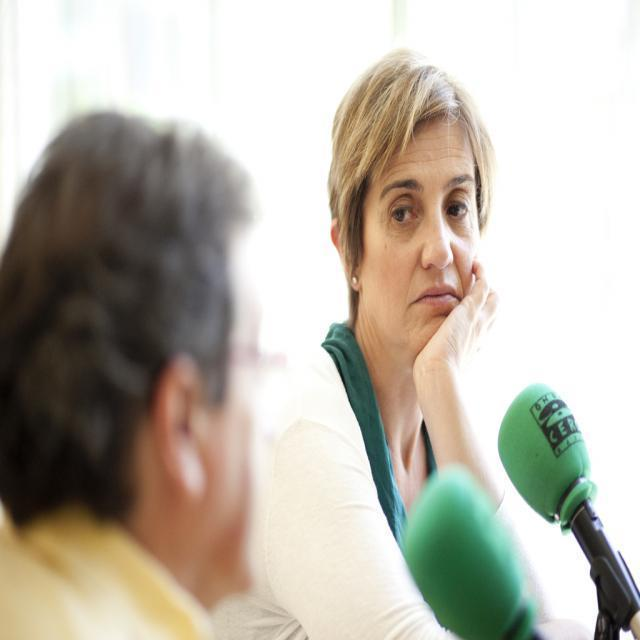closed-mouth: (409, 284, 459, 306)
